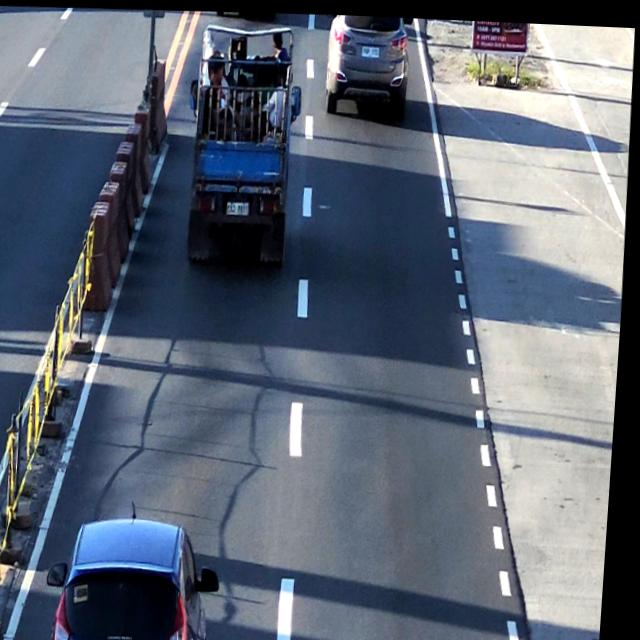Car: (67, 501, 228, 640), (320, 11, 417, 116)
License-Plate: (227, 193, 253, 215), (362, 40, 381, 56)
Truck: (185, 25, 304, 267)
